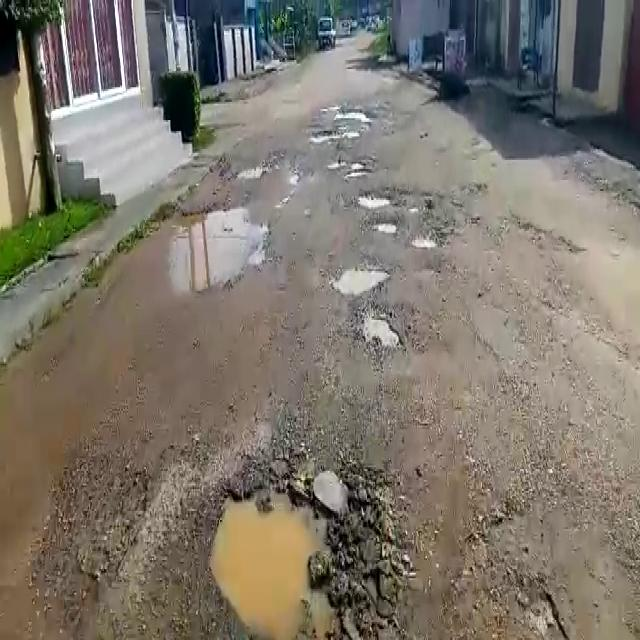Pothole: (201, 480, 382, 640), (133, 210, 273, 294), (357, 305, 405, 352), (332, 262, 389, 297), (329, 159, 374, 181), (309, 127, 361, 144), (234, 161, 270, 184), (356, 188, 396, 207), (410, 232, 440, 252), (372, 220, 399, 235)
